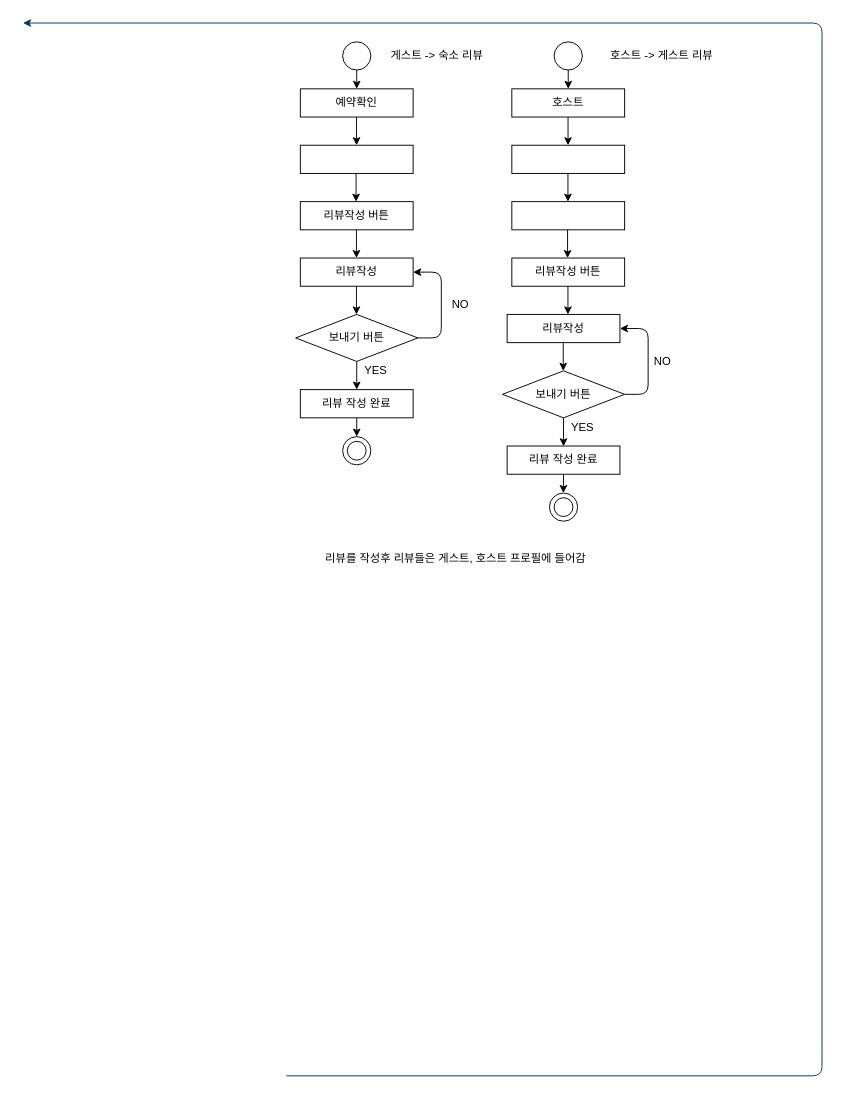
Some shapes in this 846 by 1100 pixel diagram are drawn without their labels. The shapes that lost their labels are listed below. From the top down, each one's centre as x and y in pixels, then its label:
At point (356, 158): "지난이용내역".
At point (568, 158): "알림판".
At point (568, 215): "지난 예약 목록".
